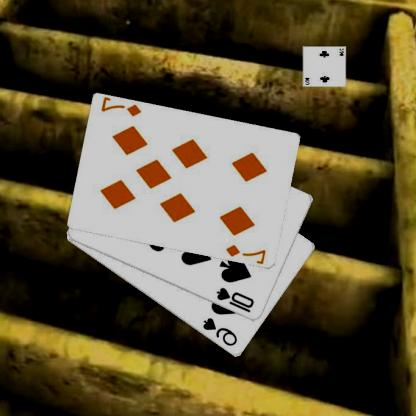10S: (216, 285, 258, 314)
7D: (225, 242, 269, 264), (100, 97, 144, 118)
9S: (202, 314, 240, 348)
